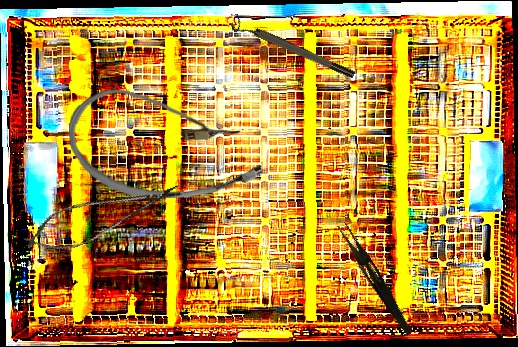Cannula: (65, 87, 268, 203)
Dressing Forceps: (332, 220, 419, 338)
Fixation Ring: (228, 13, 357, 86)
Micro Scissor: (16, 168, 190, 264)
